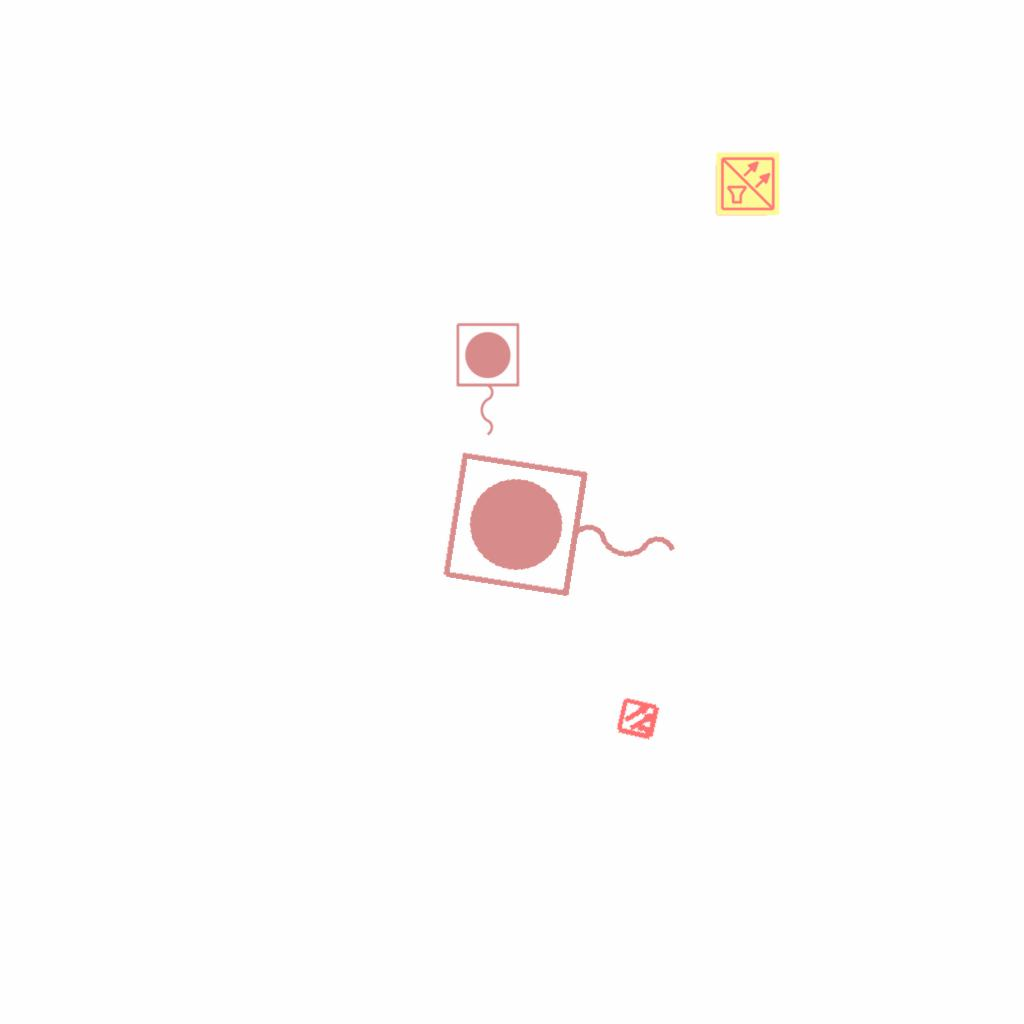OKW_Multisensormelder_(Kombination_optischer_Rauch-Kahlenmonoxid_Waerme-Melder): (715, 151, 781, 217)
OT_Multisensormelder_(Kombination_RMO_WMD): (605, 685, 673, 753)
Zugtaster: (433, 443, 697, 625), (451, 319, 523, 441)
